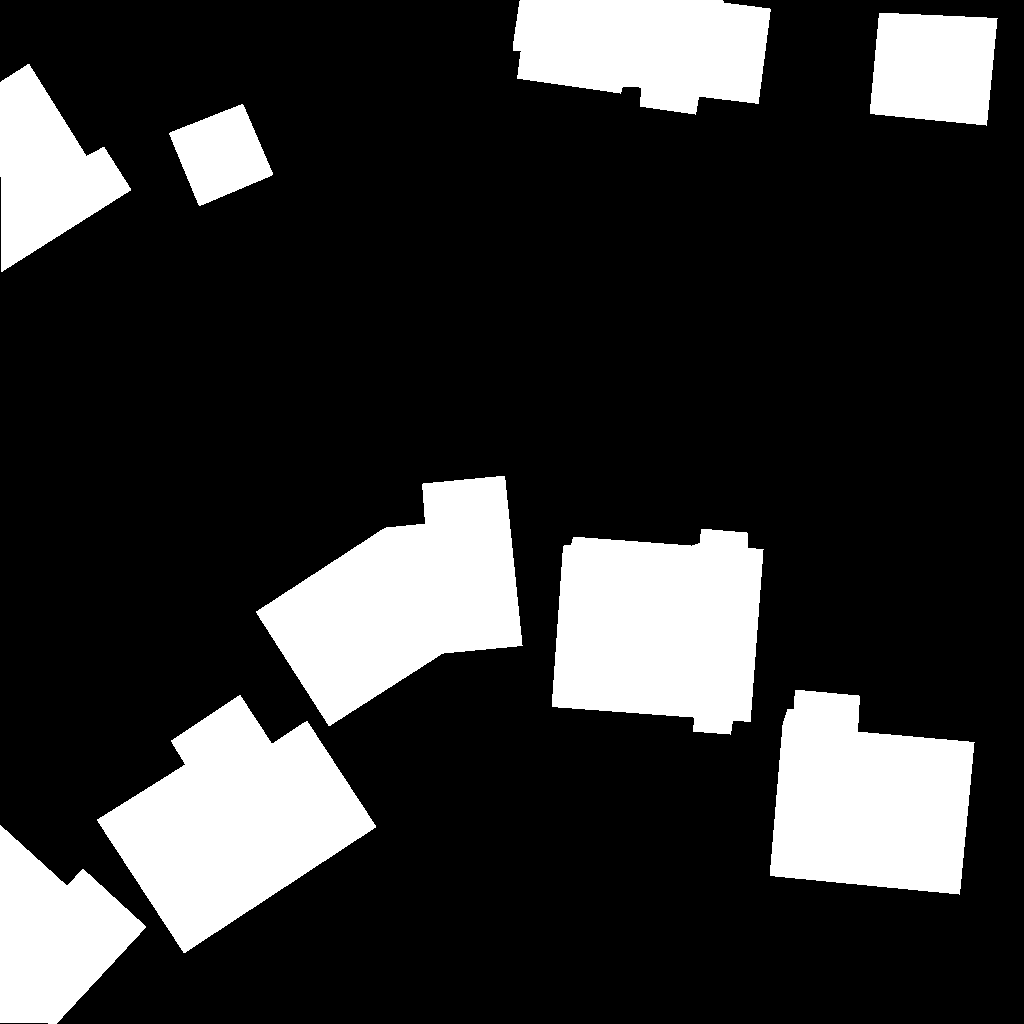building: (97, 695, 377, 954), (256, 476, 523, 727), (552, 529, 764, 735), (770, 690, 975, 895), (513, 0, 772, 115), (0, 825, 147, 1024), (0, 64, 132, 273), (870, 13, 998, 126), (169, 104, 274, 207)
